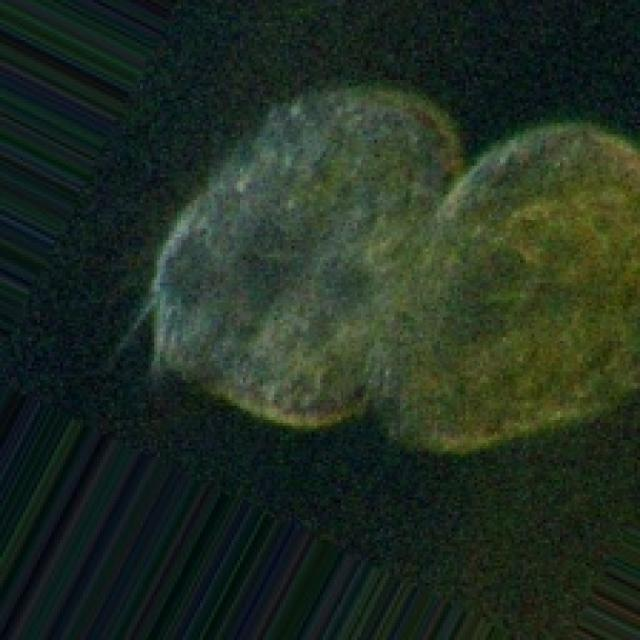Amoeba: (143, 74, 466, 432), (369, 117, 637, 457)
